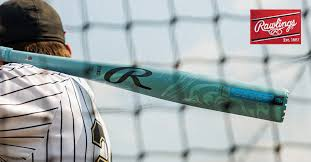baseball bat: (1, 44, 288, 121)
